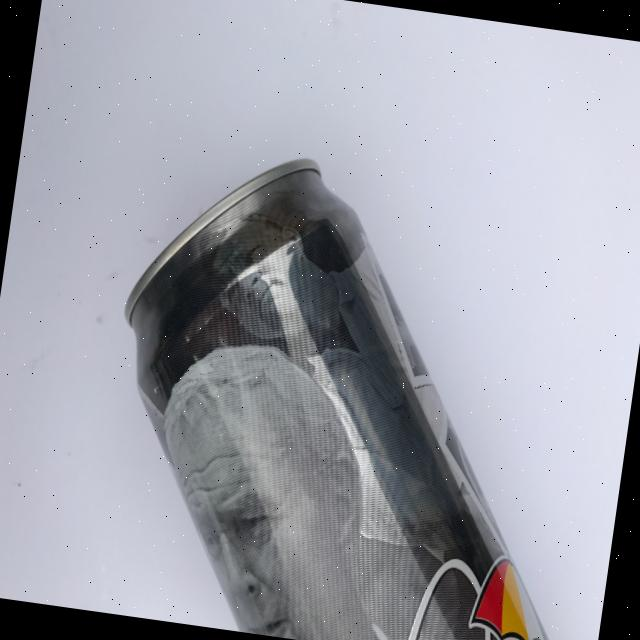metal: (82, 135, 632, 640)
